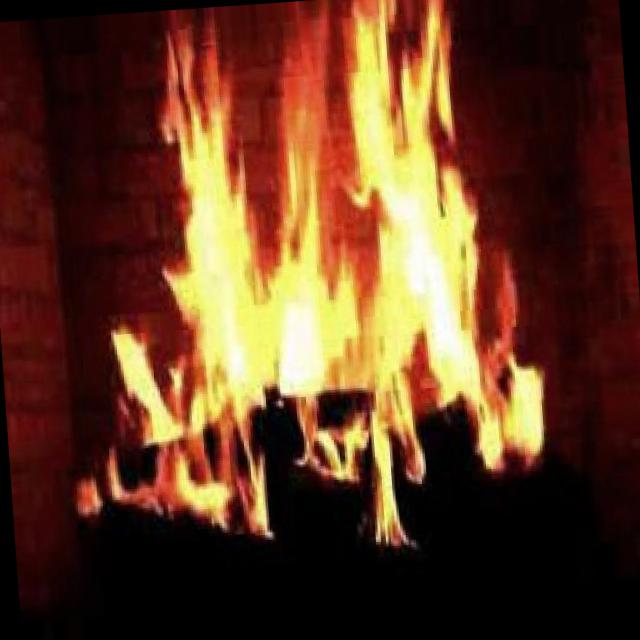Fire: (41, 0, 569, 583)
